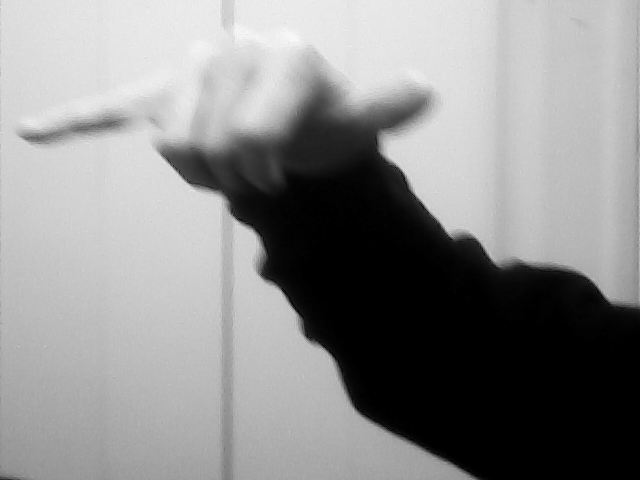aloha: (17, 24, 437, 193)
